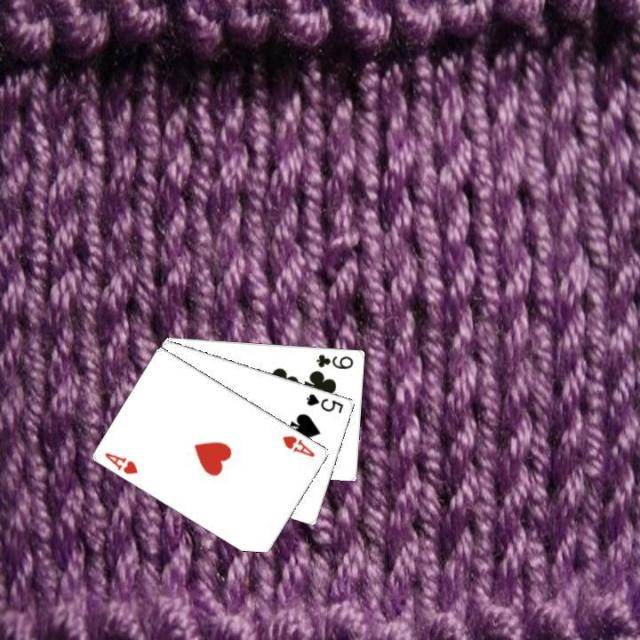5S: (302, 389, 346, 415)
9C: (312, 350, 356, 371)
AH: (278, 431, 318, 459), (102, 448, 140, 476)
